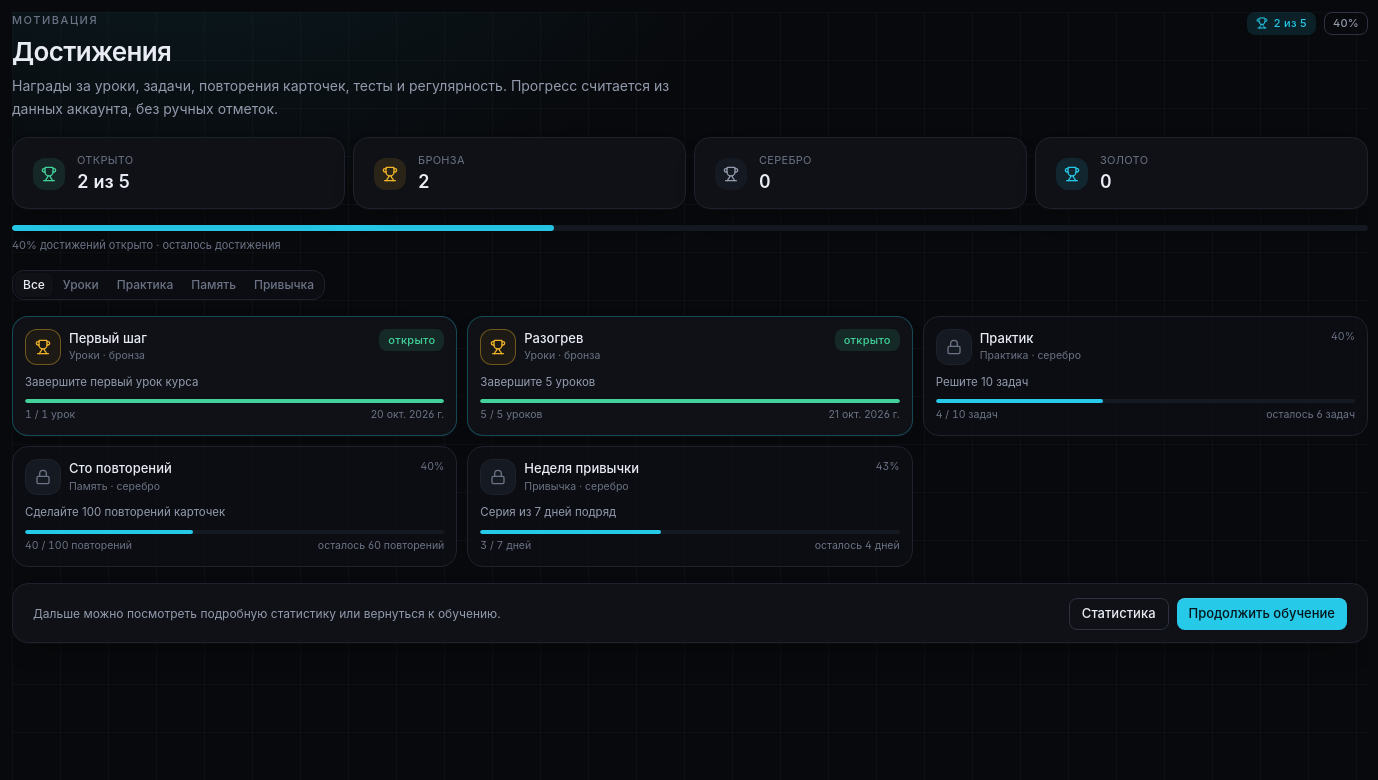
AchievementsPage › фильтрует достижения по категориям
Expected: the text "Первый шаг" is shown, [69,330,147,346]
Click the radio button labelled "Практика".
click(145, 285)  # box [109,273,181,297]
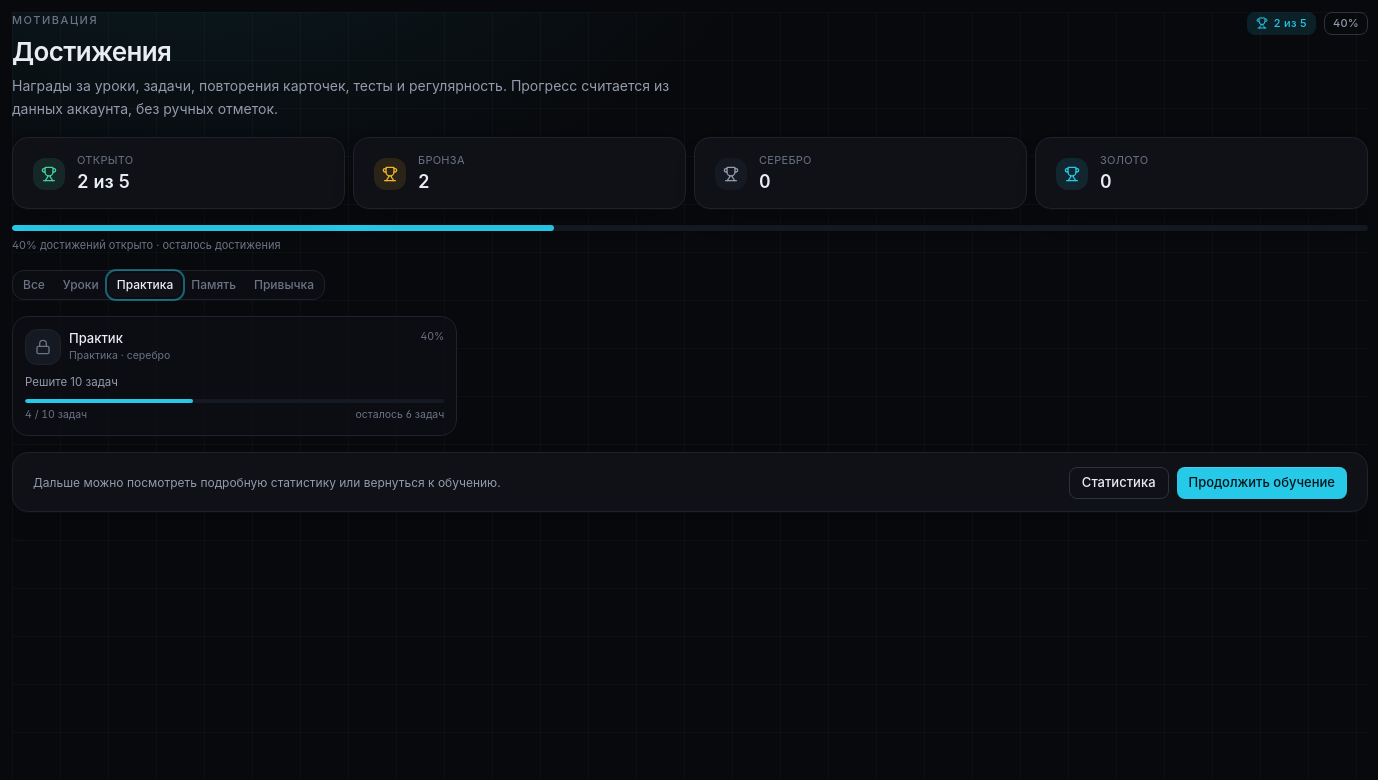
Expected: the text "Практик" is shown, [69,330,123,346]
Expected: the text "Первый шаг" is gone
Click the radio button labelled "Уроки".
click(81, 285)  # box [55,273,107,297]
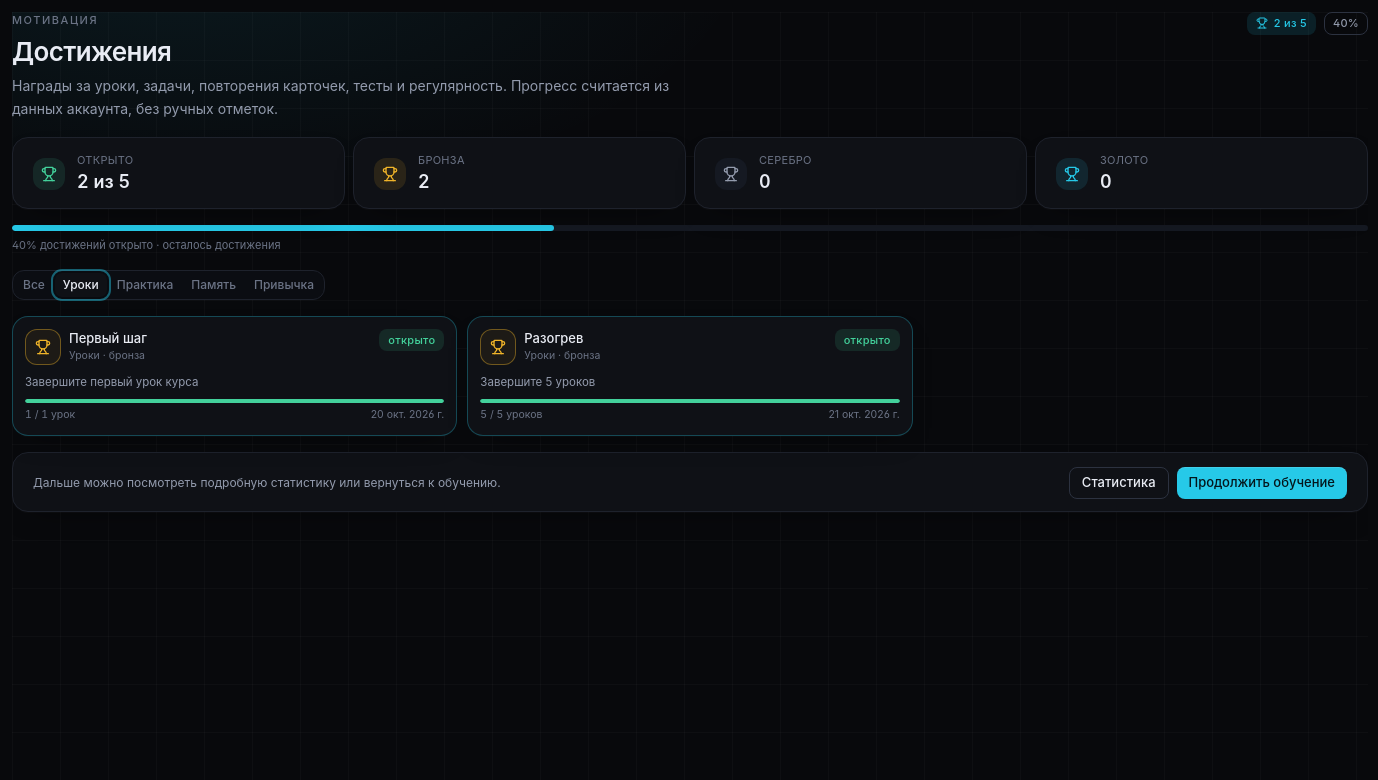
Expected: the text "Первый шаг" is shown, [69,330,147,346]
